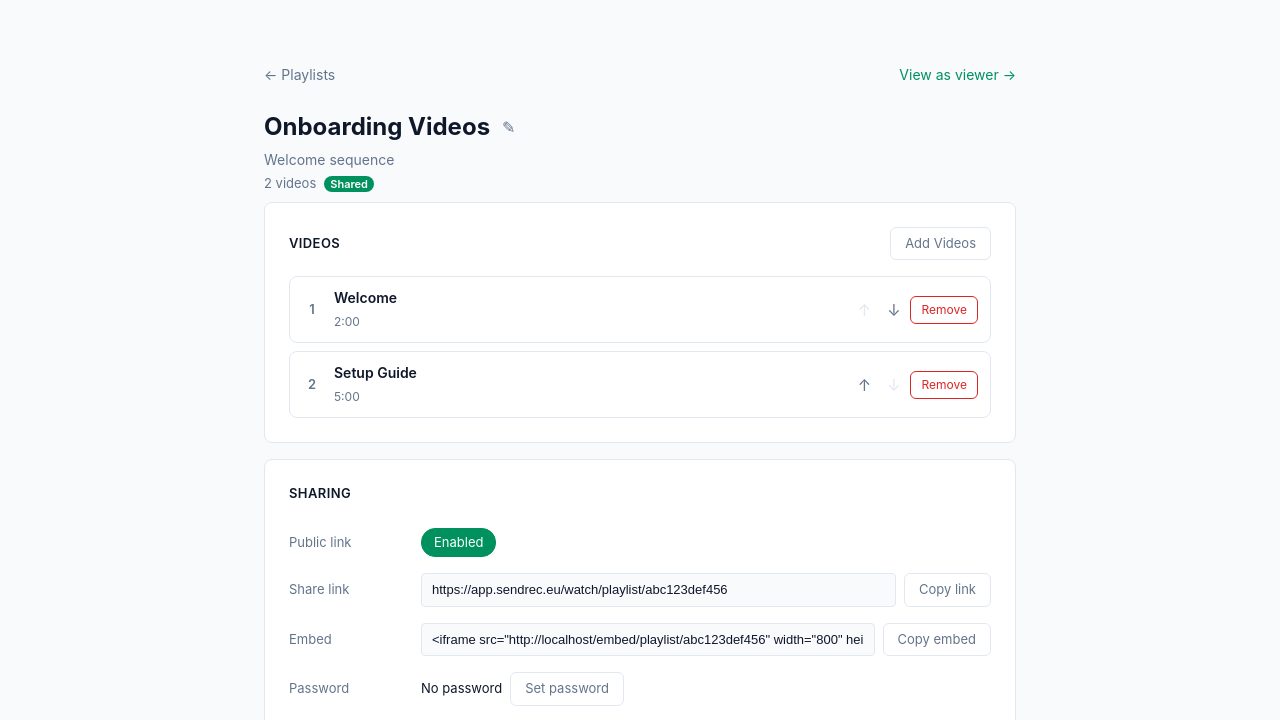
Test: PlaylistDetail › opens add videos modal and shows available videos
The width and height of the screenshot is (1280, 720).
Click the button "Add Videos".
click(941, 243)  # box left=890, top=226, right=991, bottom=260
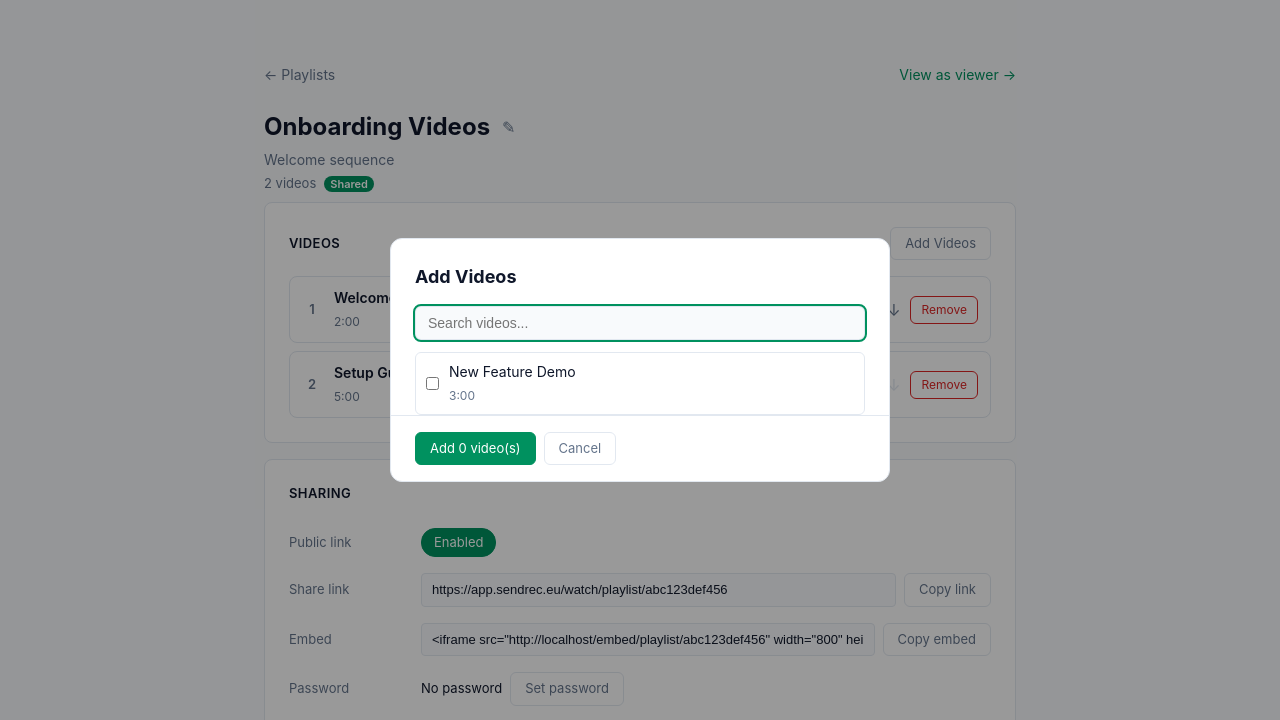
Now the text "New Feature Demo" is shown, box left=449, top=363, right=576, bottom=380
